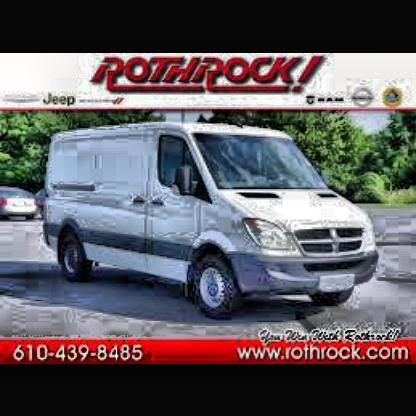Dodge Sprinter Cargo Van 2009: (41, 122, 381, 316)
